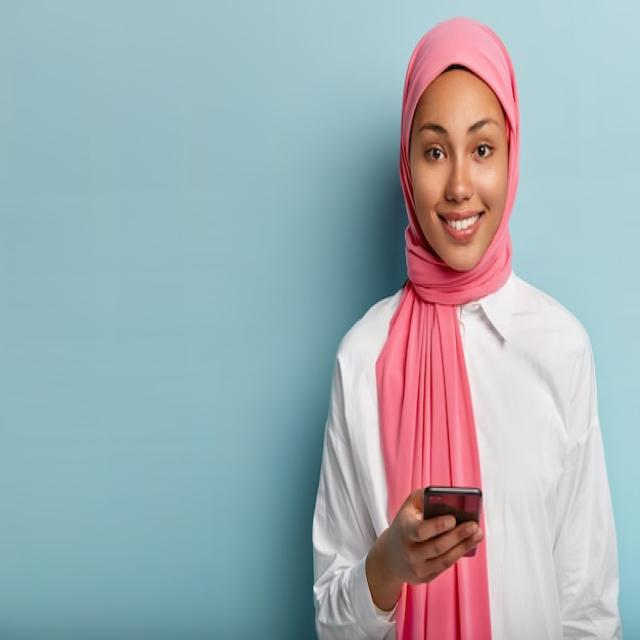Person: (311, 18, 620, 640)
